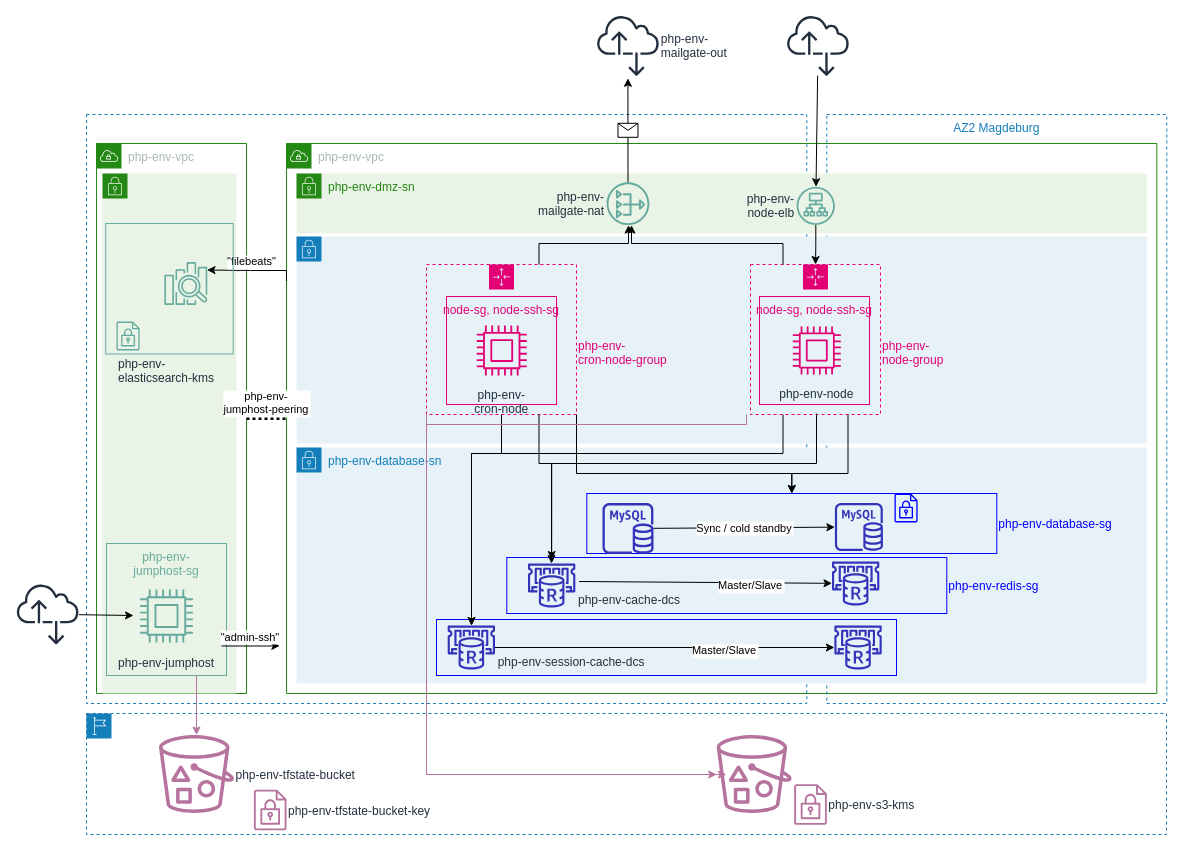
Image size: 1183x851. Some labels were removed from this diagram. Here are the shapes that lost their labels. From the top down, the box of each, then its label:
(786, 14, 849, 76): php-env-node-elb
(105, 222, 233, 354): php-elastic search-sg
(158, 256, 213, 310): php-env- elasticsearch
(296, 236, 1147, 444): php-env-application-sn
(86, 114, 807, 704): AZ3 Biere
(102, 172, 236, 694): php-env-jumphost-sn
(894, 493, 917, 522): php-env- database-kms
(602, 502, 653, 554): php-env-meta-rds
(16, 582, 78, 645): php-env- jumphost
(436, 618, 896, 676): php-env-session-redis-sg
(86, 712, 1166, 834): eu-de region
(716, 734, 791, 812): php-env-docs
